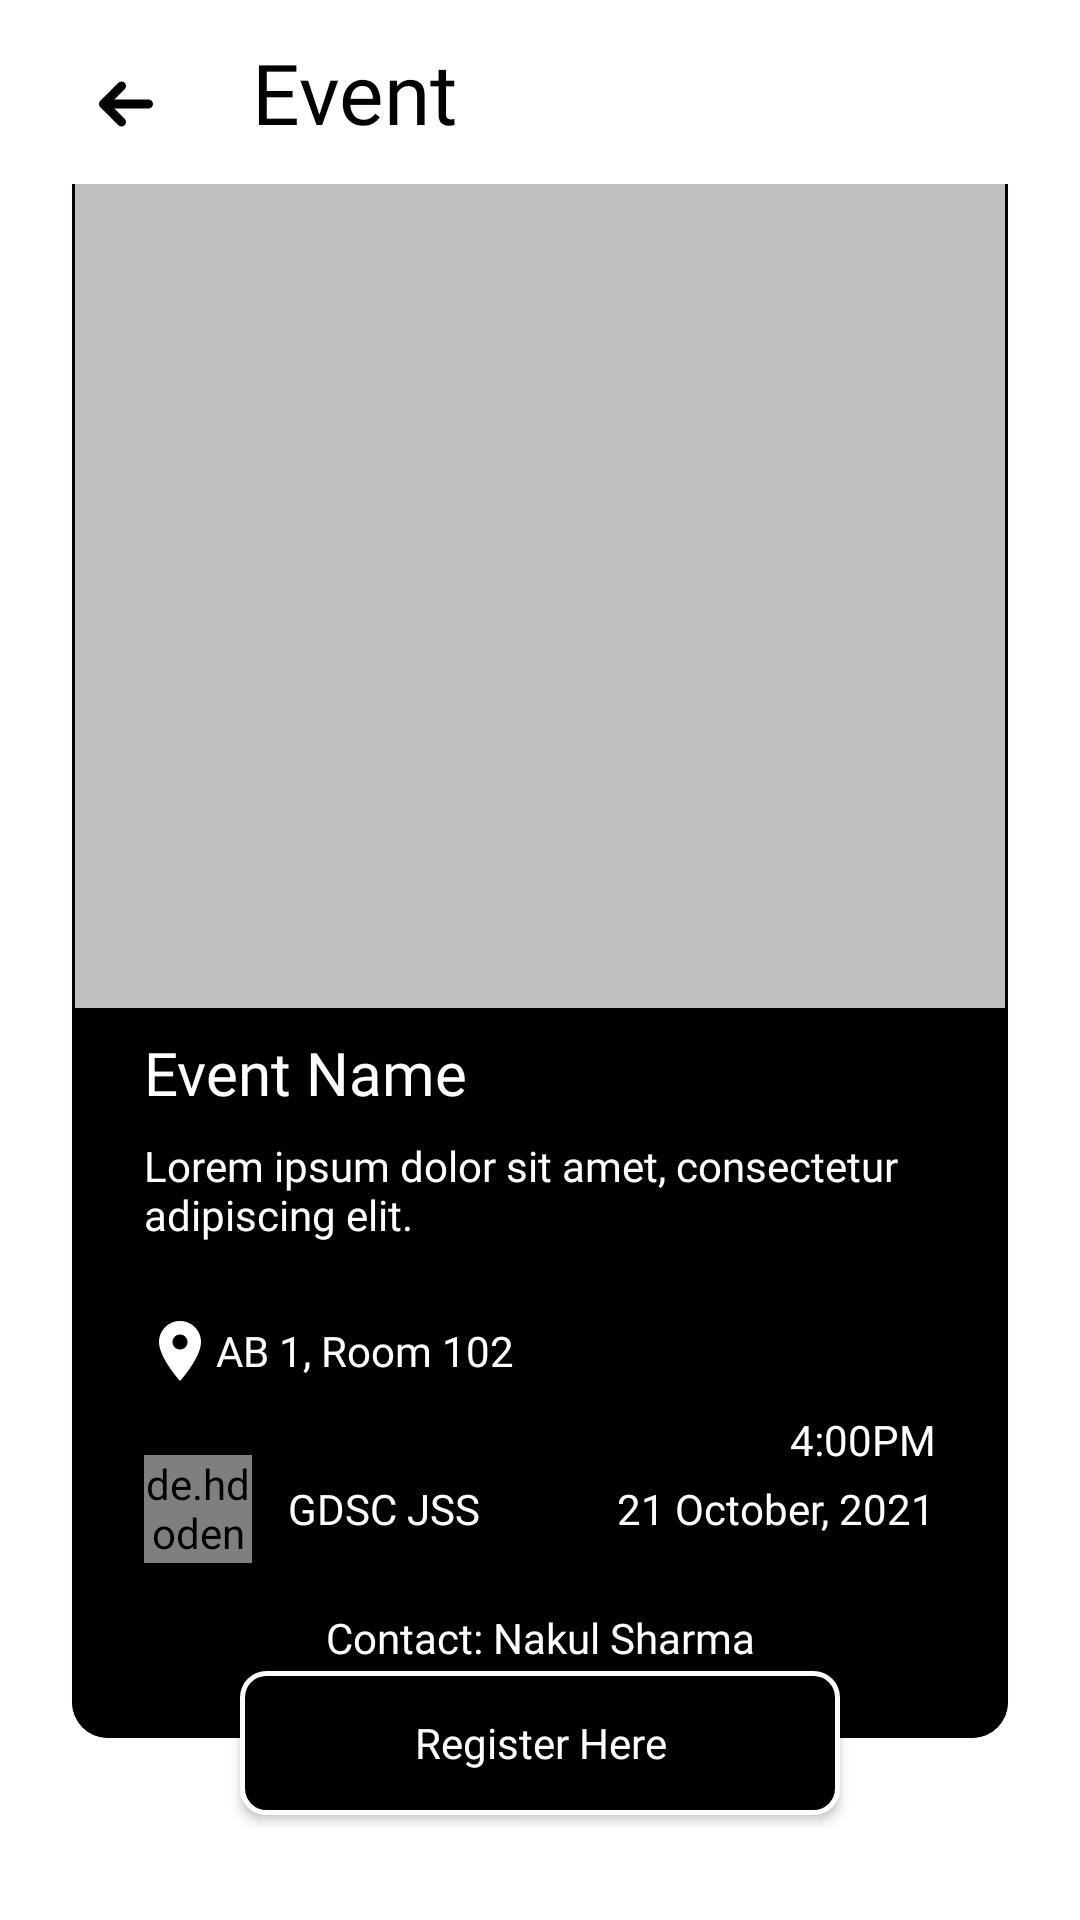

Icon bounding boxes for this 1080w x 1920h phone screenshot, format (x1, y1, x2, y2):
back: (99, 81, 153, 127)
